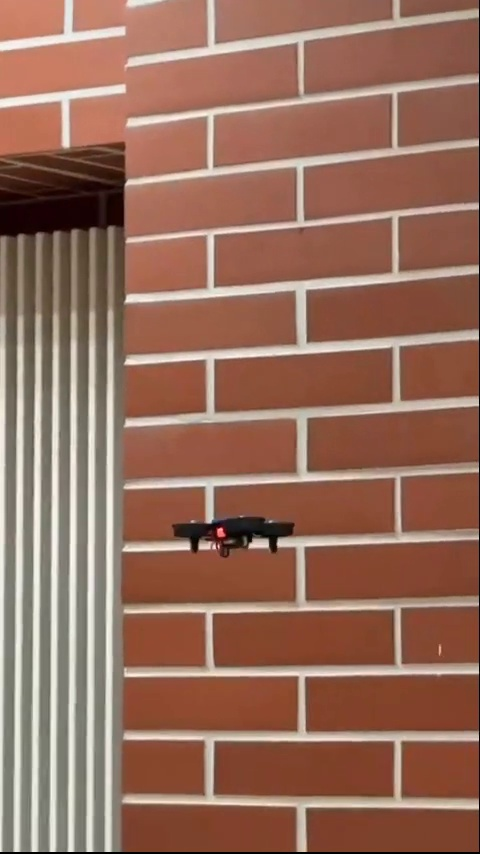drone: (172, 509, 300, 554)
